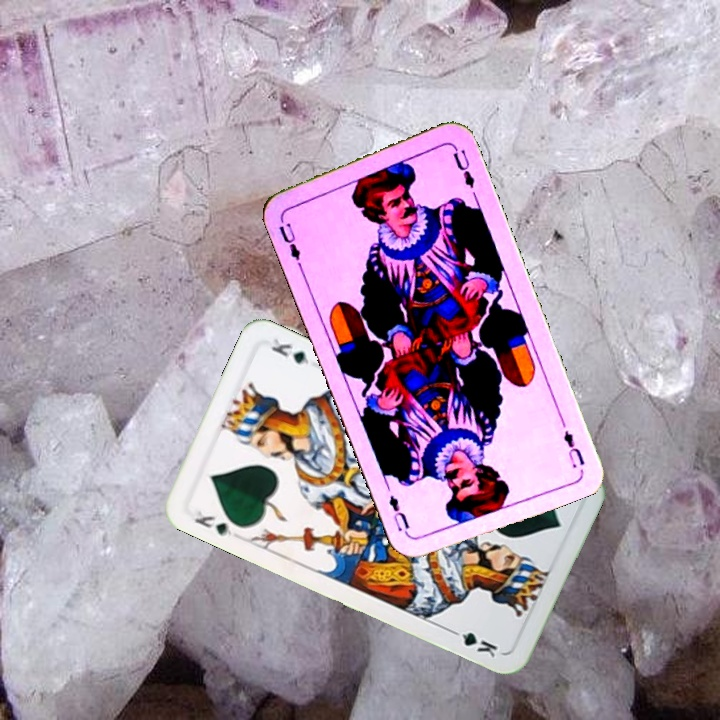EU: (275, 212, 305, 269), (559, 426, 587, 471)
GK: (190, 506, 235, 539)
